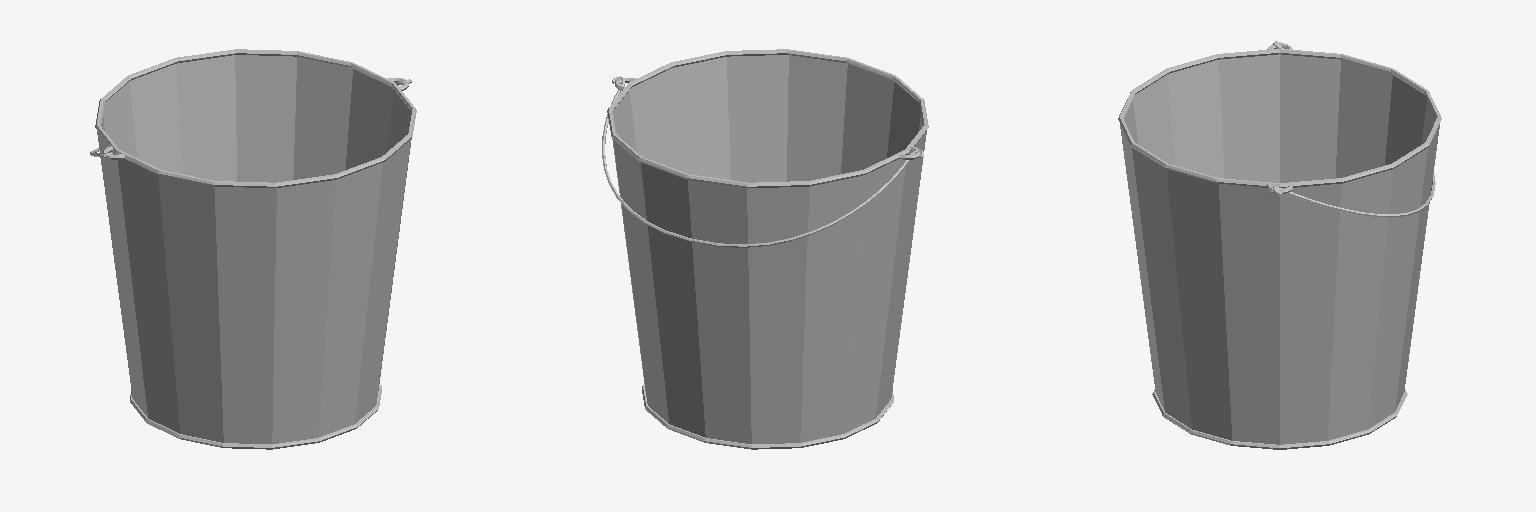
Rendered from metalBucket.obj.
3 renders of one model, left to right at view 1: azimuth 30°, elevation 25°; view 2: azimuth 150°, elevation 25°; view 3: azimuth 270°, elevation 25°, orthographic.
Visible parts, largest first — view 1: metalBucket; view 2: metalBucket; view 3: metalBucket.
Part boxes in pixels (x1,y1,x2,y2): metalBucket: (90, 49, 416, 449); metalBucket: (602, 49, 928, 449); metalBucket: (1118, 41, 1441, 449).
Size of the model in its own units: 0.2751 by 0.2379 by 0.2483.